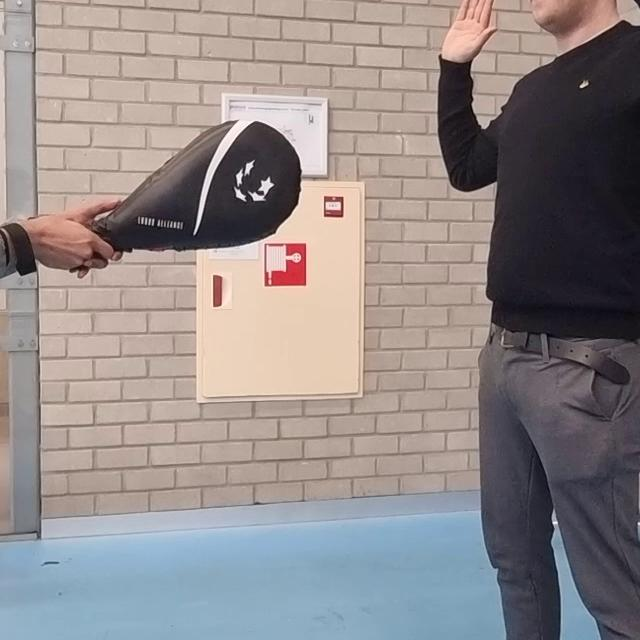paddle: (79, 118, 304, 251)
